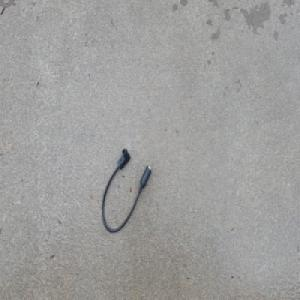Wire: (100, 146, 151, 233)
